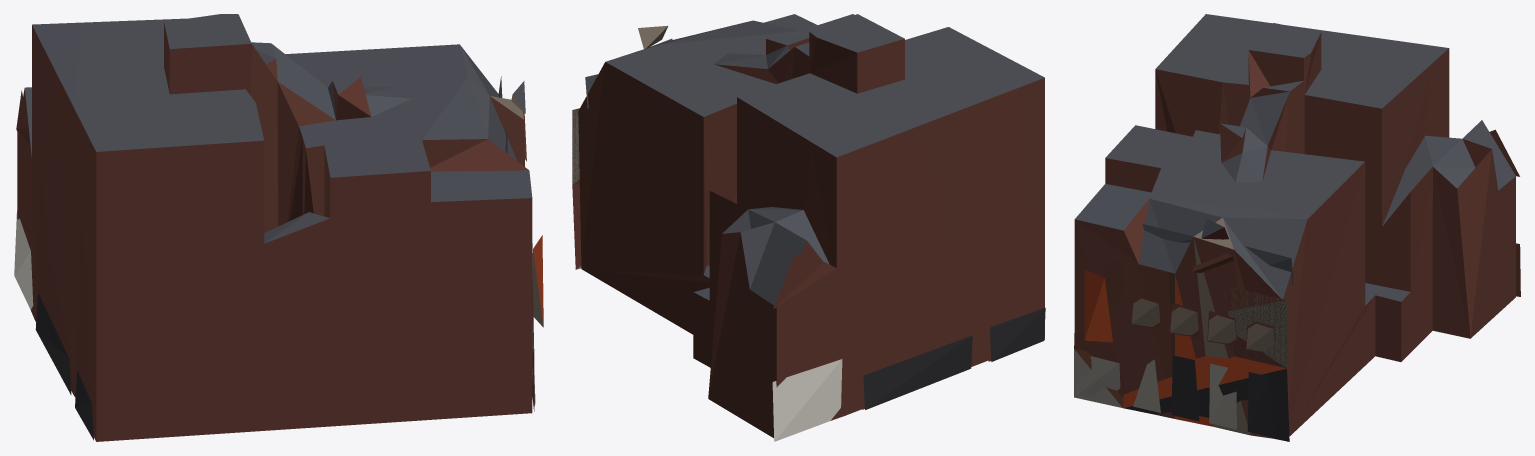
File: port-van-cleve.lod2.glb
The picture shows the model from 3 angles, left to right: view 1: azimuth 30°, elevation 25°; view 2: azimuth 150°, elevation 25°; view 3: azimuth 270°, elevation 25°; orthographic projection. The views are drawn at different scales.
Visible parts, largest first — view 1: lod2; view 2: lod2; view 3: lod2.
Part boxes in pixels (x1,y1,x2,y2): lod2: (14, 14, 543, 441); lod2: (572, 14, 1045, 441); lod2: (1074, 14, 1520, 441).
Bounding box in the file's own units: 39.76 × 26.72 × 39.12.
